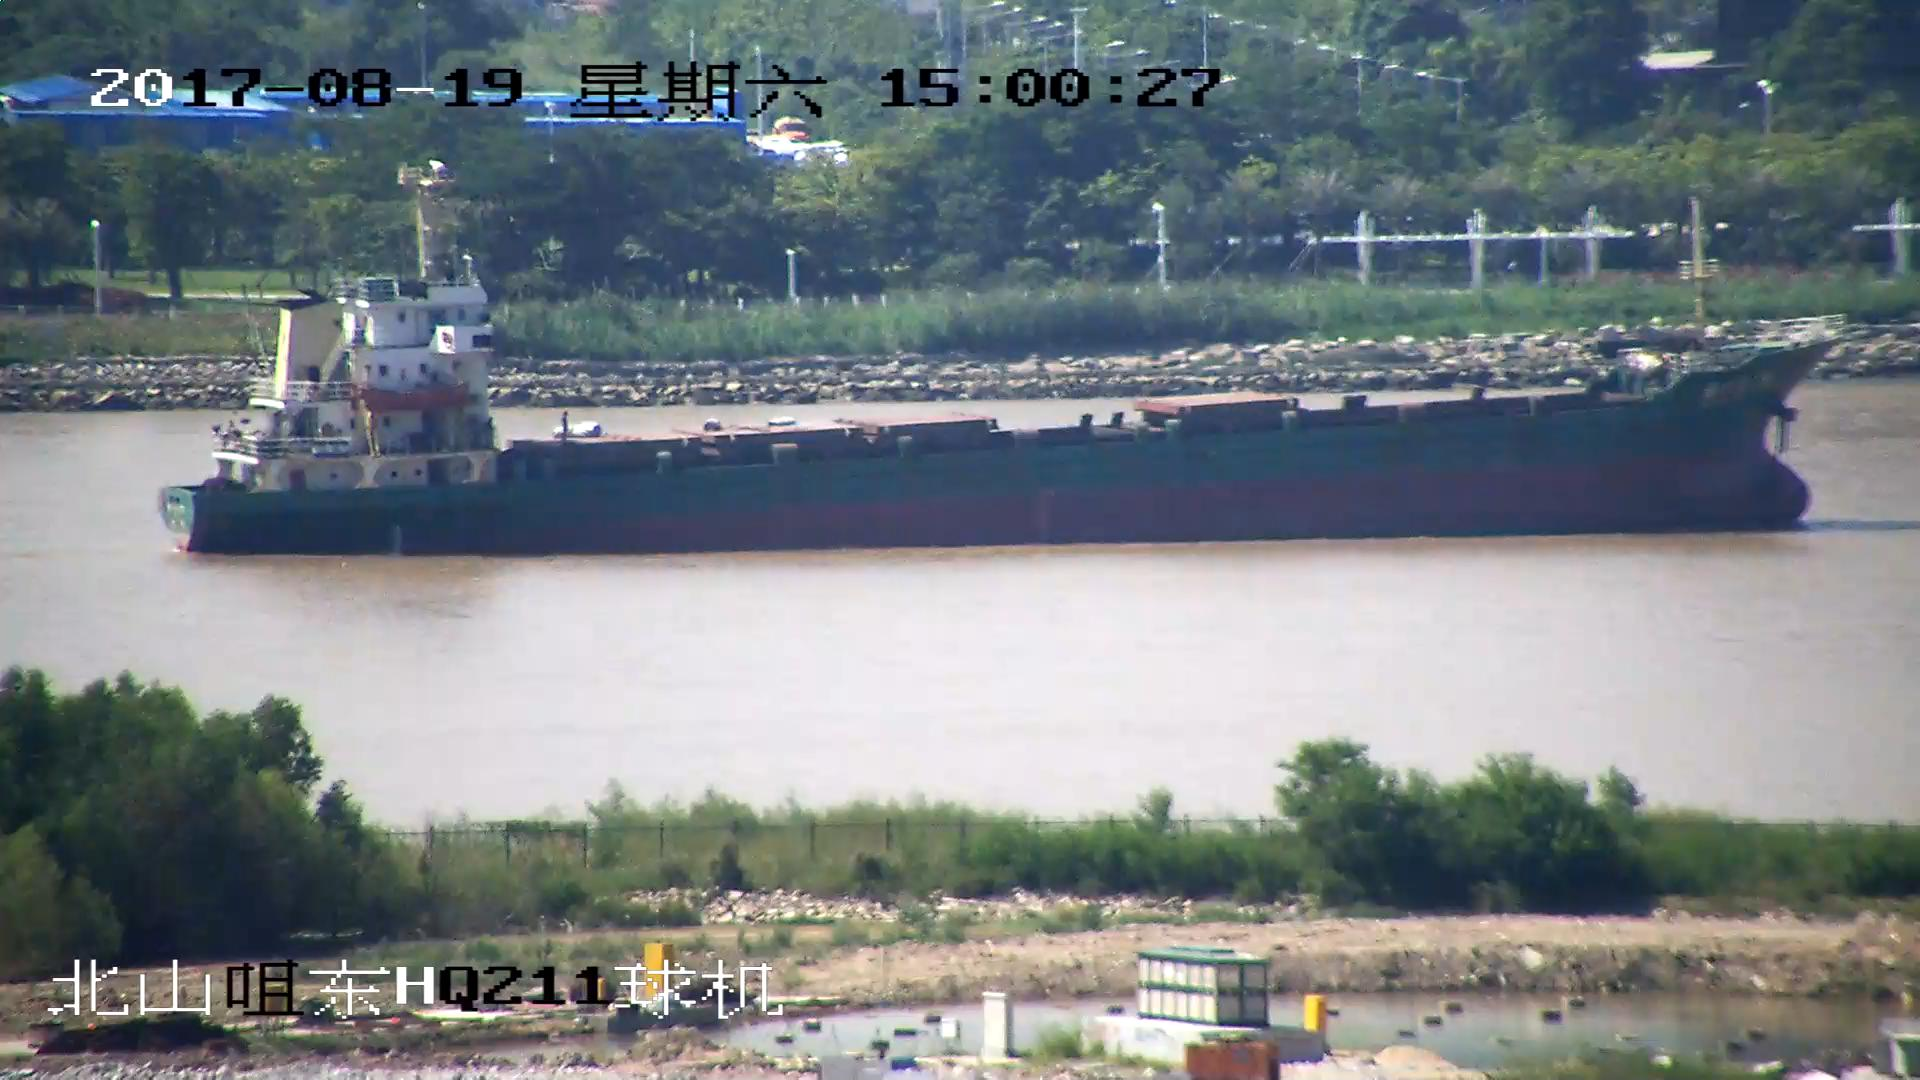general cargo ship: (153, 202, 1817, 552)
